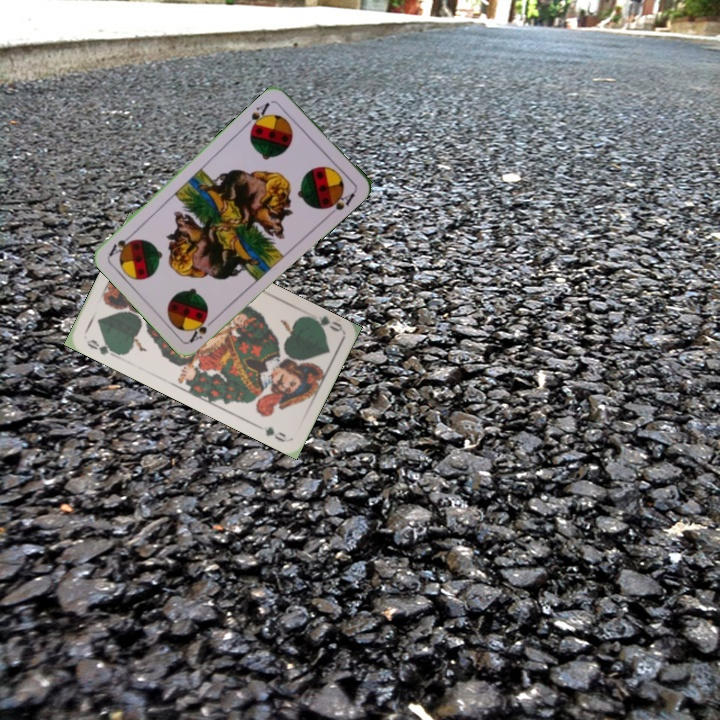GO: (82, 335, 120, 360), (304, 312, 344, 334)
SA: (185, 313, 219, 345), (242, 98, 273, 132)
